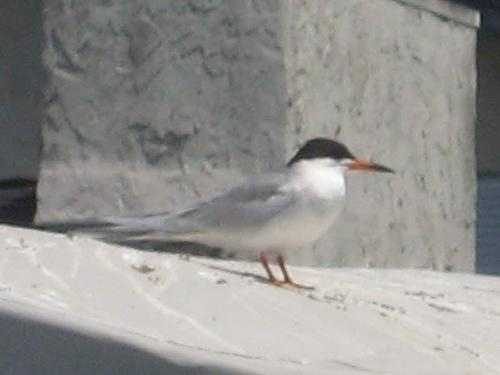bird: (94, 137, 406, 267)
